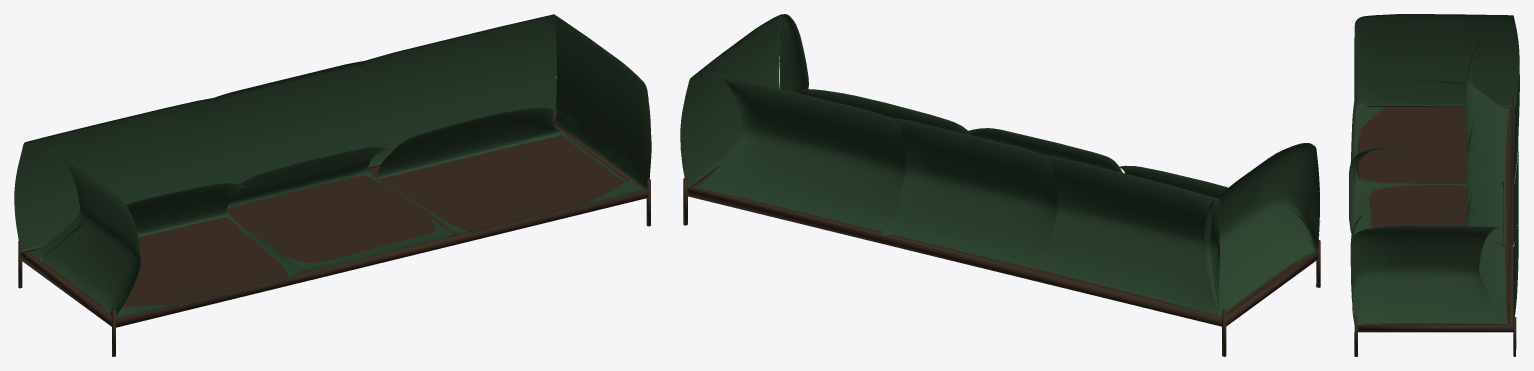
Rendered from sofa-modelo-triplo-reto.glb.
3 renders of one model, left to right at view 1: azimuth 30°, elevation 25°; view 2: azimuth 150°, elevation 25°; view 3: azimuth 270°, elevation 25°, orthographic. The views are drawn at different scales.
Visible parts, largest first — view 1: Modelo Triplo Reto; view 2: Modelo Triplo Reto; view 3: Modelo Triplo Reto.
Part boxes in pixels (bbox=[...]): Modelo Triplo Reto: bbox=[14, 14, 651, 356]; Modelo Triplo Reto: bbox=[680, 14, 1320, 356]; Modelo Triplo Reto: bbox=[1349, 14, 1519, 356].
Size of the model in its own units: 3.37 by 0.87 by 1.08.
